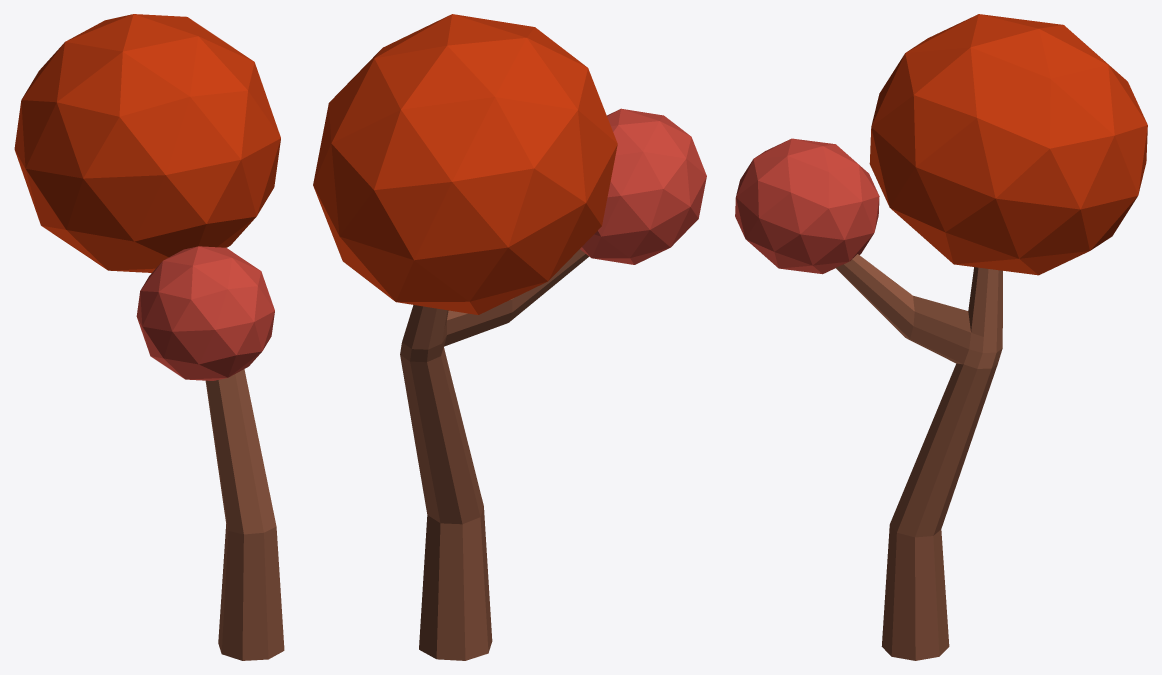
The model's file is Tree_02_summer_red_mat.fbx.
3 renders of one model, left to right at view 1: azimuth 30°, elevation 25°; view 2: azimuth 150°, elevation 25°; view 3: azimuth 270°, elevation 25°, orthographic. The views are drawn at different scales.
Parts seen in each view (by area): view 1: Tree_02_summer_red_mat; view 2: Tree_02_summer_red_mat; view 3: Tree_02_summer_red_mat.
Part boxes in pixels (x1,y1,x2,y2): Tree_02_summer_red_mat: (14,14,284,660); Tree_02_summer_red_mat: (313,14,706,660); Tree_02_summer_red_mat: (735,14,1147,660).
Bounding box in the file's own units: 71.42 × 177 × 112.
